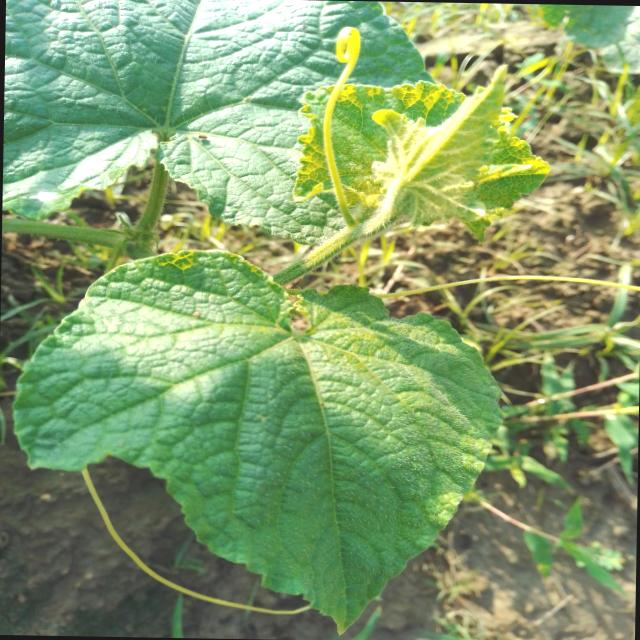cucumber_healthy: (8, 236, 512, 640), (4, 0, 439, 252), (290, 59, 556, 244)
